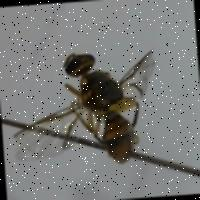Oriental-fruit-fly: (9, 30, 180, 188)
